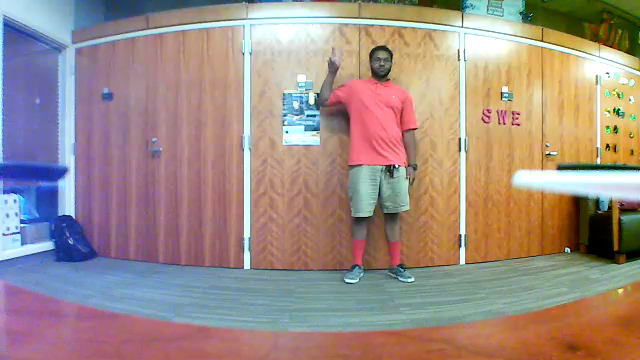peace: (324, 45, 347, 75)
